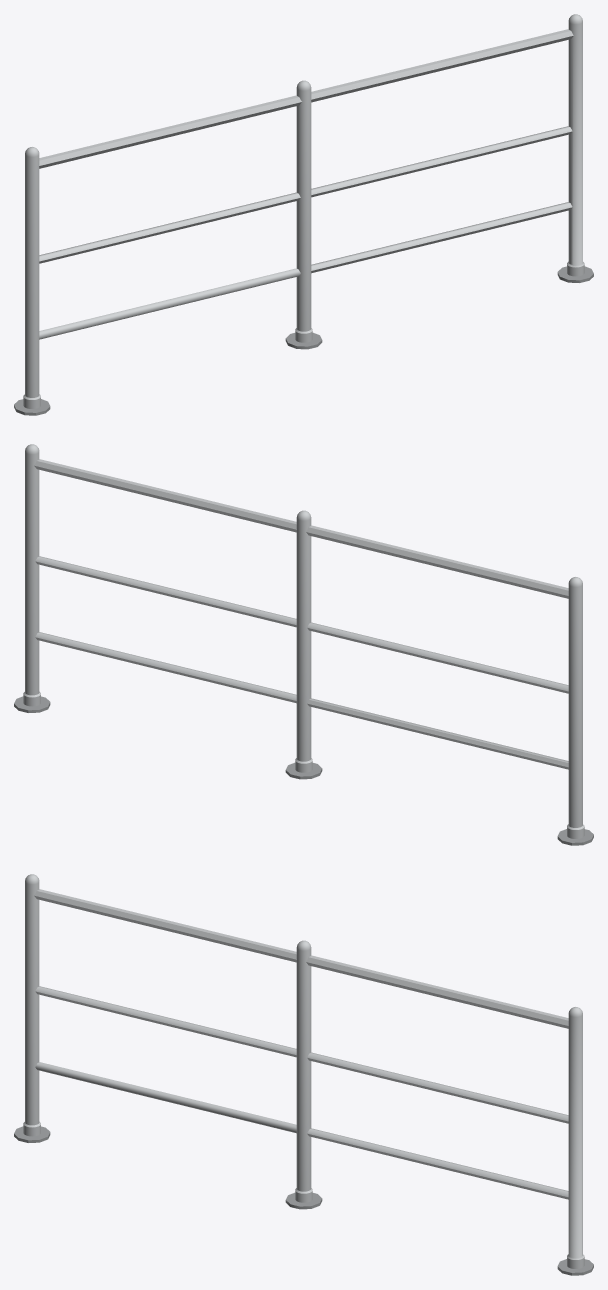
File: gteki_barrier_rail_2400_rails.glb
The picture shows the model from 3 angles, top to bottom: view 1: azimuth 30°, elevation 25°; view 2: azimuth 150°, elevation 25°; view 3: azimuth 330°, elevation 25°; orthographic projection.
Visible parts, largest first — view 1: VIS_body; view 2: VIS_body; view 3: VIS_body.
Boxes of the visible parts, box(x1,y1,x2,y2) form: VIS_body: box(14, 14, 593, 415); VIS_body: box(14, 444, 593, 845); VIS_body: box(14, 874, 593, 1275).
Size of what is drawn, in the model's own units: 2.54 by 1.1 by 0.1331.
Materials: 1 (1 with a texture image).
